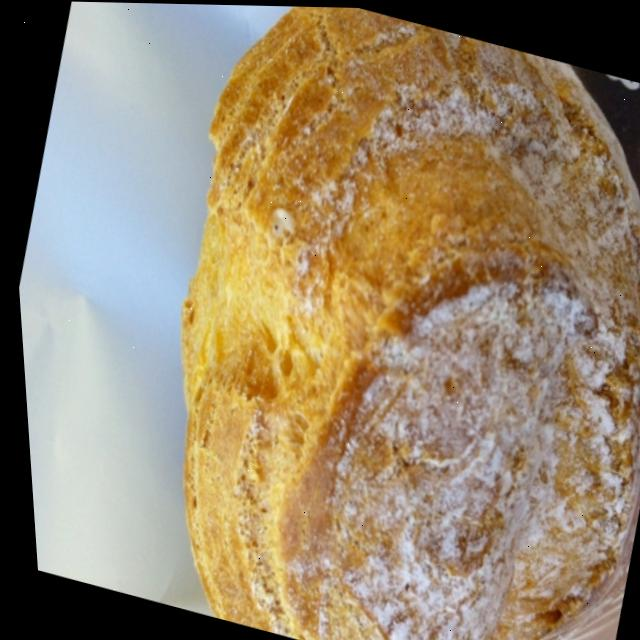炸货点心: (62, 1, 640, 640)
蛋糕甜品: (62, 1, 640, 640)
